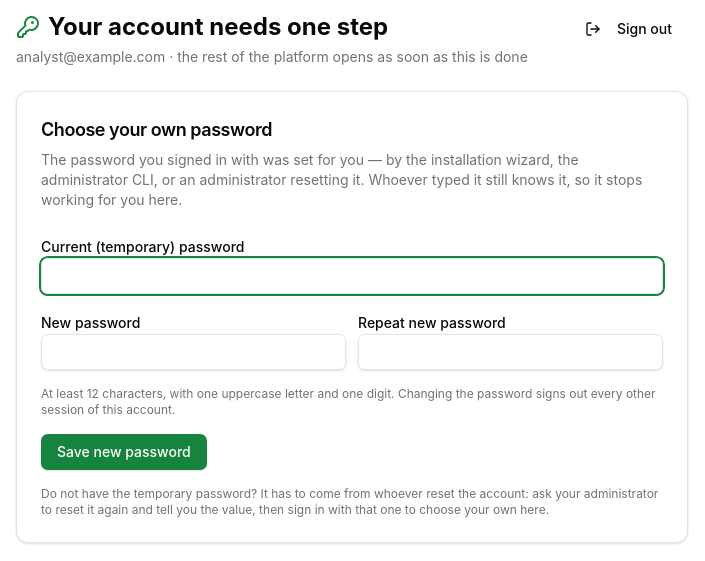
Scenario: OnboardingPage › moves from the password step straight into a factor the installation requires
This screenshot has width=705, height=561.
Expected: the heading "Choose your own password" is shown, [41,119,272,140]
Type "TestPass123!" into the password field labelled "Current (temporary) password" at point(352, 276), box [41,258,663,294]
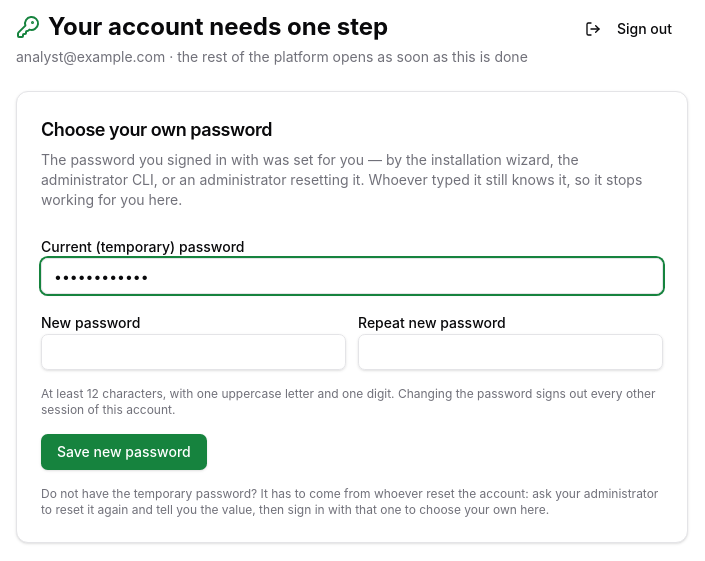
Type "FreshPass456!" into the password field labelled "New password" at point(194, 352), box [41,334,346,370]
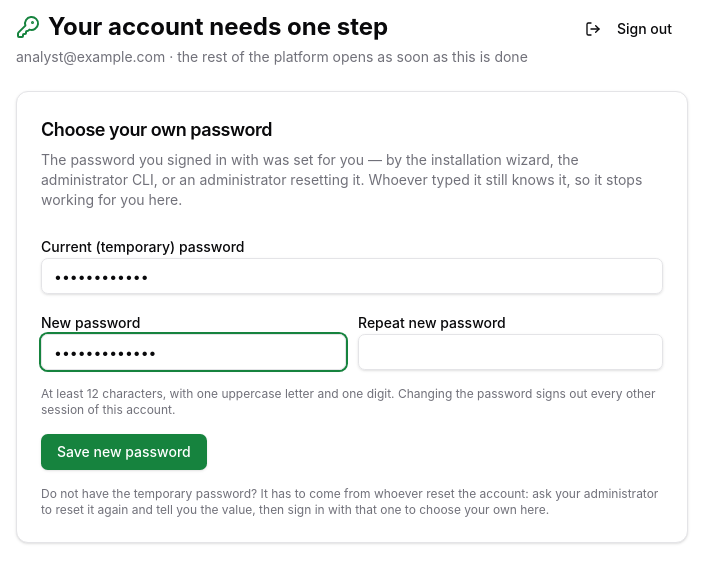
Type "FreshPass456!" into the password field labelled "Repeat new password" at point(510, 352), box [358,334,663,370]
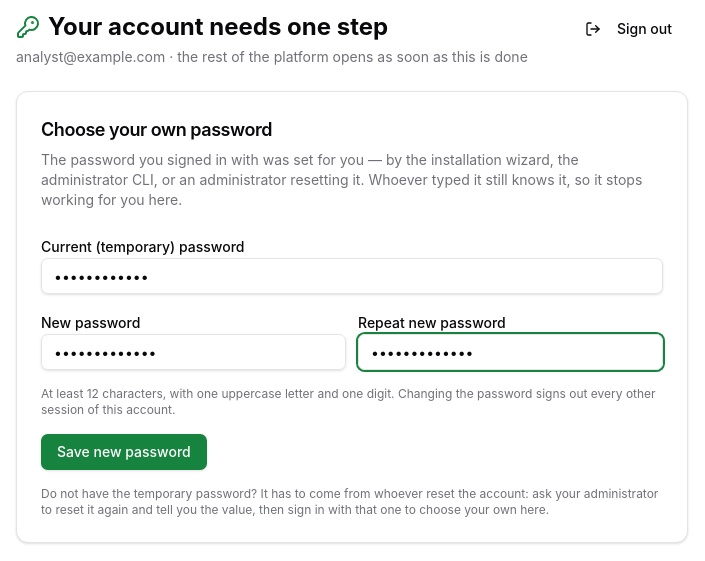
Click the button "Save new password" at point(124, 452), box [41,434,207,470]
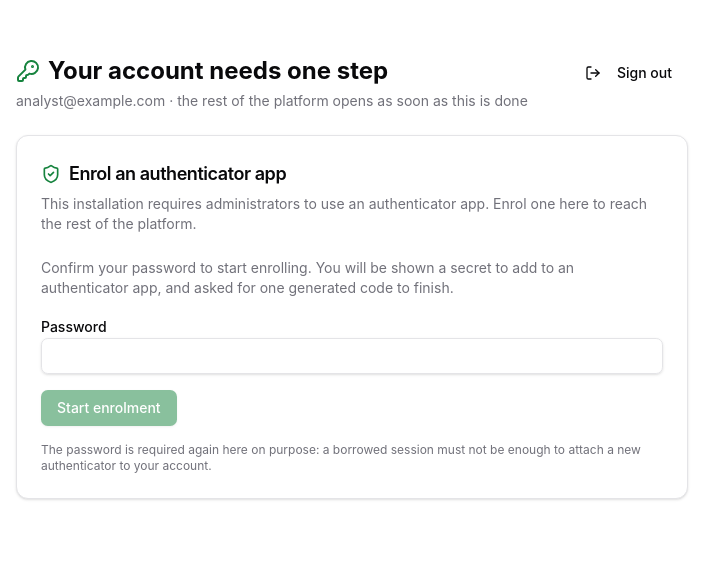
Result: the heading "Enrol an authenticator app" is shown at [41,163,286,184]
